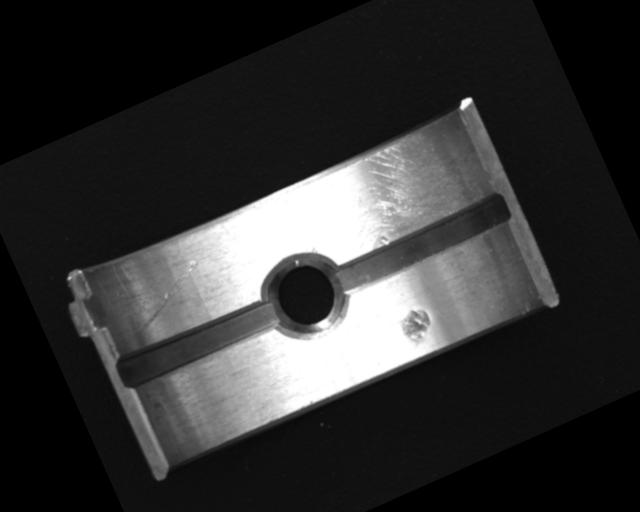bruise: (396, 303, 439, 350)
gap: (324, 189, 514, 300), (114, 294, 281, 394)
hole: (252, 239, 357, 349)
nick: (120, 255, 216, 334)
scratch: (296, 111, 487, 267)
